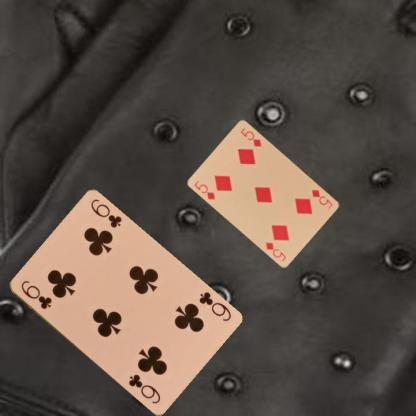5d: (192, 178, 216, 201), (309, 188, 334, 210)
6c: (196, 289, 232, 323), (17, 278, 53, 310)
